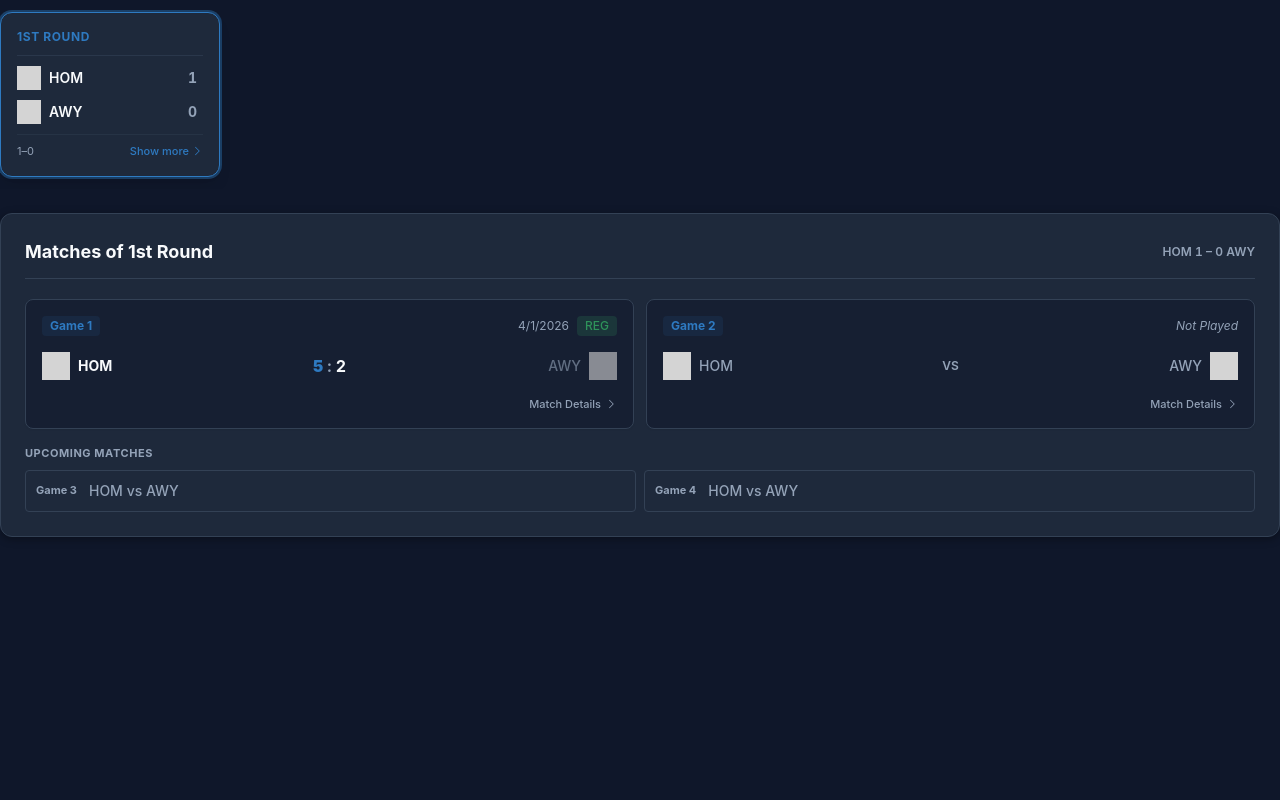
it: PlayoffBracket › NHL season: shows played matches and the next upcoming match as full cards, later upcoming matches as compact rows
This screenshot has width=1280, height=800.
Expected: the text "5" is shown, x1=313 y1=356 x2=323 y2=376
Expected: the text "vs" is shown, x1=942 y1=358 x2=959 y2=372
// Compact rows still open the match modal
Click the button "Game 3 HOM vs AWY".
click(56, 490)  # box x1=25 y1=470 x2=636 y2=512
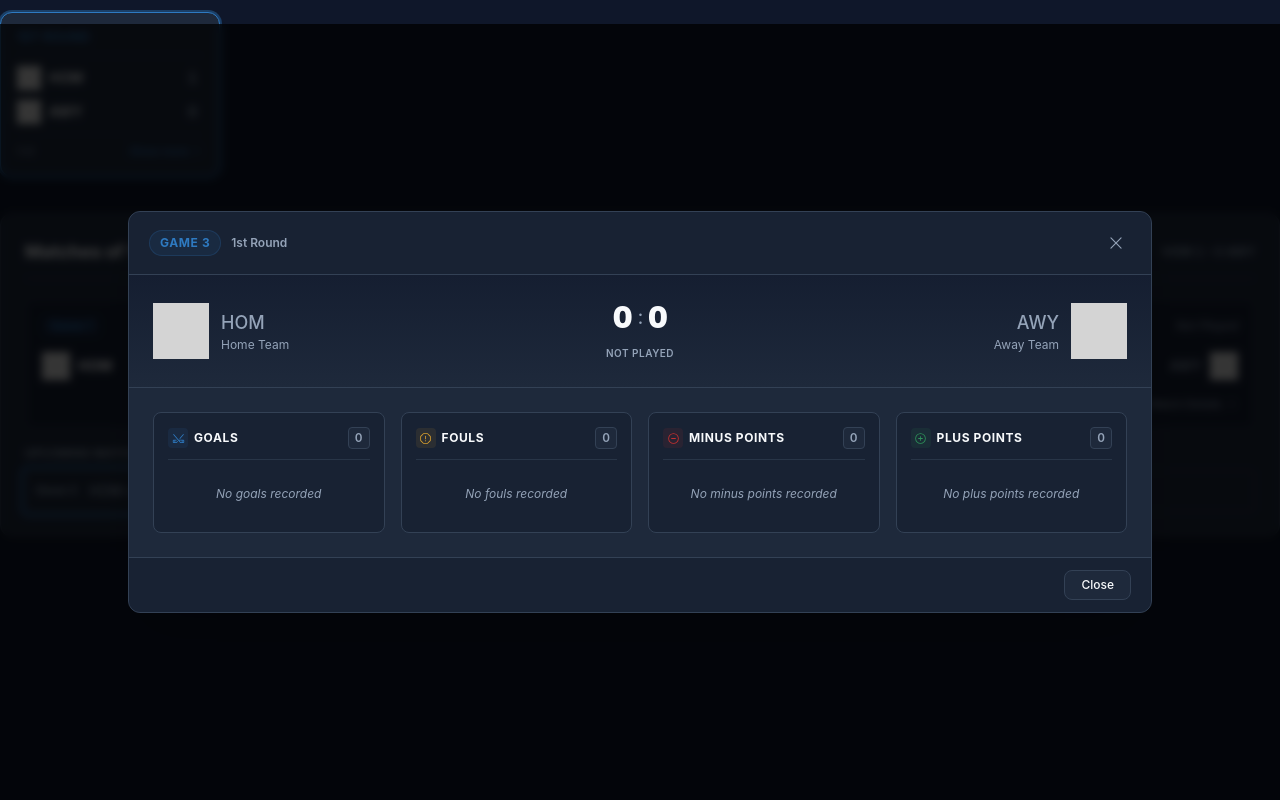
Now the dialog is shown
